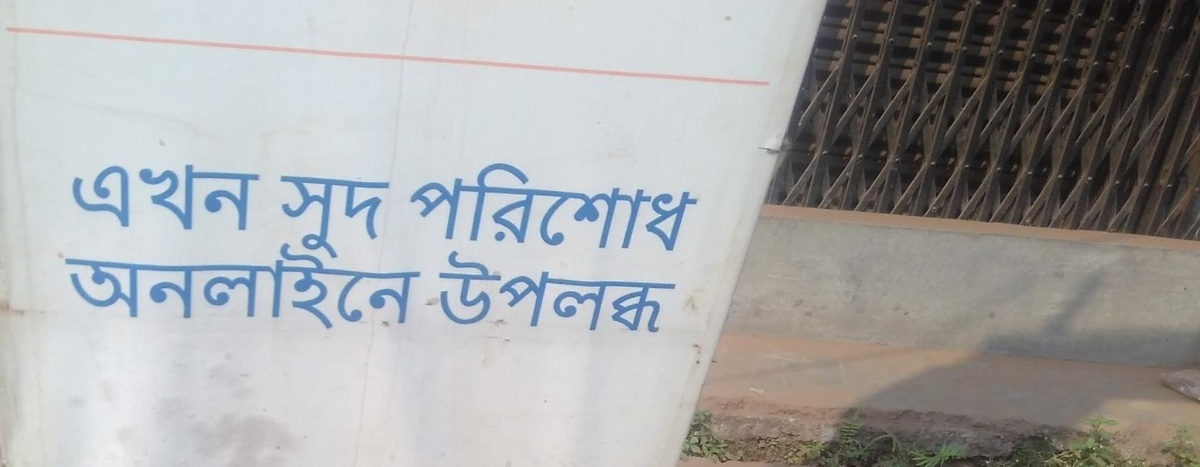text: (417, 152, 432, 259), (433, 152, 448, 259), (449, 152, 464, 259), (465, 152, 480, 259), (481, 152, 496, 259), (497, 152, 512, 259), (513, 152, 528, 259), (529, 152, 544, 259), (545, 152, 560, 259), (561, 152, 576, 259), (577, 152, 592, 259), (593, 152, 608, 259), (609, 152, 624, 259), (625, 152, 640, 259), (641, 152, 656, 259), (657, 152, 672, 259), (673, 152, 688, 259), (65, 233, 80, 332), (81, 233, 96, 332), (97, 233, 112, 332), (113, 233, 128, 332), (129, 233, 144, 332), (145, 233, 160, 332), (161, 233, 176, 332), (177, 233, 192, 332), (193, 233, 208, 332), (209, 233, 224, 332), (225, 233, 240, 332), (241, 233, 256, 332), (257, 233, 272, 332), (273, 233, 288, 332), (289, 233, 304, 332), (305, 233, 320, 332), (321, 233, 336, 332), (337, 233, 352, 332), (353, 233, 368, 332), (369, 233, 384, 332), (385, 233, 400, 332), (401, 233, 416, 332), (449, 248, 464, 340), (465, 248, 480, 340), (481, 248, 496, 340), (497, 248, 512, 340), (513, 248, 528, 340), (529, 248, 544, 340), (545, 248, 560, 340), (561, 248, 576, 340), (577, 248, 592, 340), (593, 248, 608, 340), (609, 248, 624, 340), (625, 248, 640, 340), (641, 248, 656, 340), (657, 248, 672, 340), (289, 169, 304, 258), (305, 169, 320, 258), (321, 169, 336, 258), (337, 169, 352, 258), (353, 169, 368, 258), (369, 169, 384, 258), (689, 152, 701, 259), (81, 164, 96, 237), (97, 164, 112, 237), (113, 164, 128, 237), (129, 164, 144, 237), (145, 164, 160, 237), (161, 164, 176, 237), (177, 164, 192, 237), (193, 164, 208, 237), (209, 164, 224, 237), (225, 164, 240, 237), (241, 164, 256, 237), (276, 169, 288, 258), (438, 248, 448, 340), (417, 233, 424, 332), (673, 248, 680, 340), (385, 169, 391, 258), (75, 164, 80, 237), (257, 164, 262, 237), (414, 152, 416, 259)
